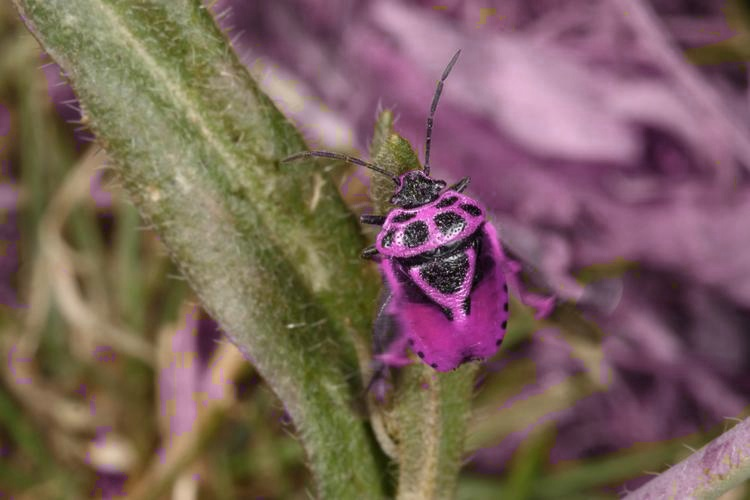Stink_Bug: (360, 151, 528, 352)
